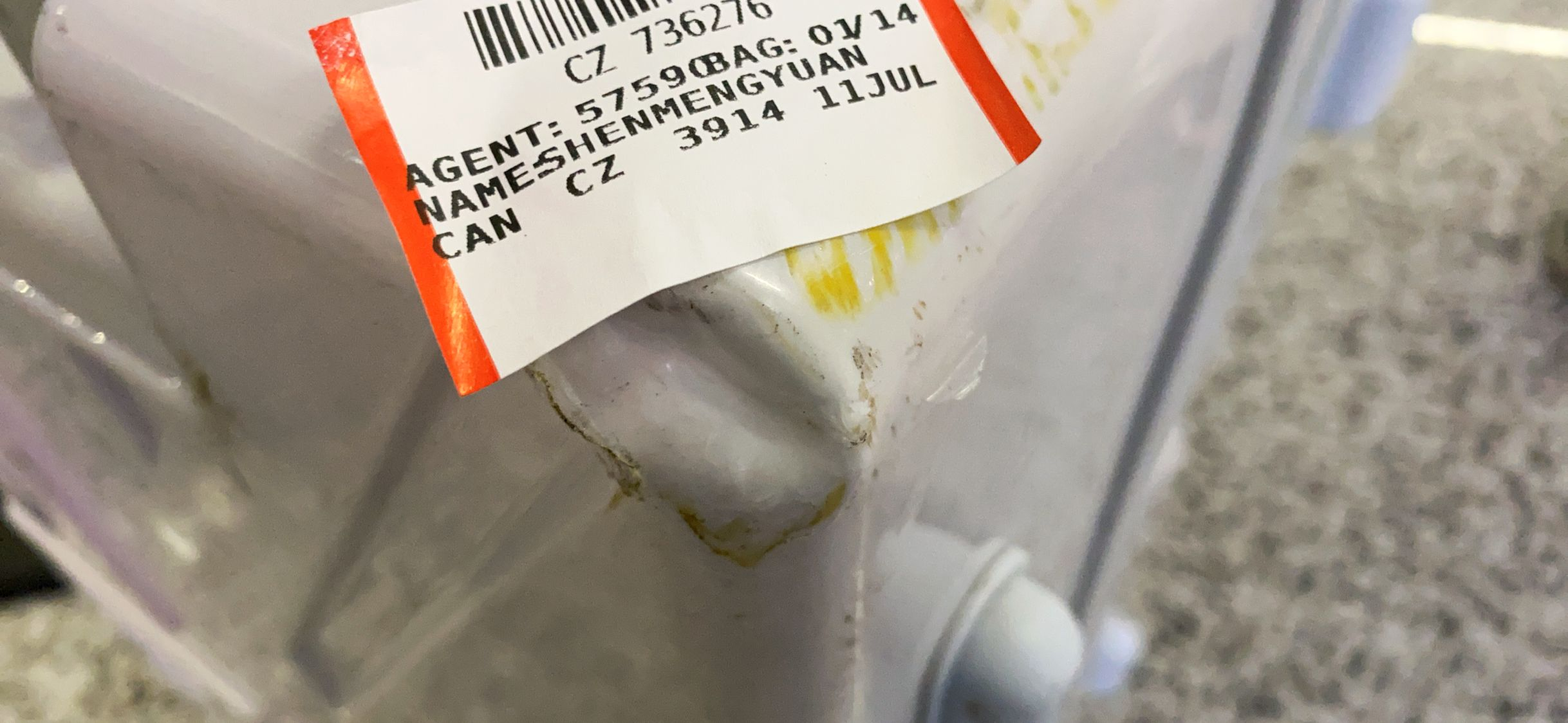hollow: (532, 270, 871, 522)
